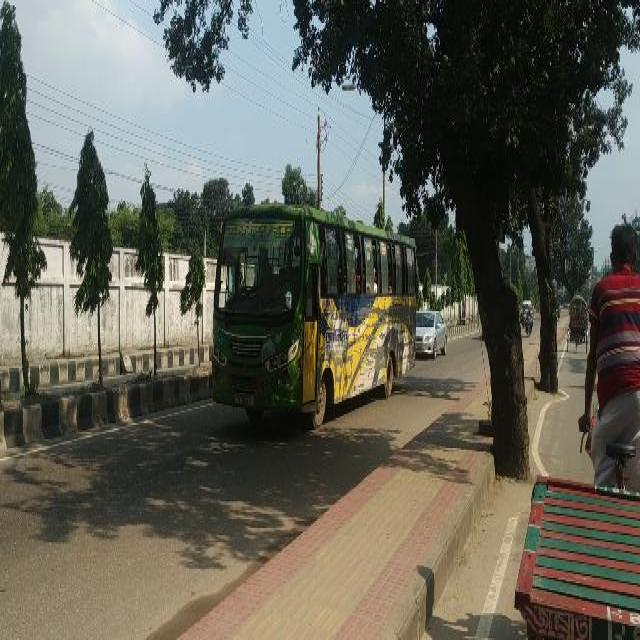bus: (210, 200, 418, 422)
car: (415, 308, 447, 356)
motorbike: (524, 313, 532, 334)
rickshaw: (566, 293, 588, 351)
wheelbarrow: (513, 472, 639, 637)
